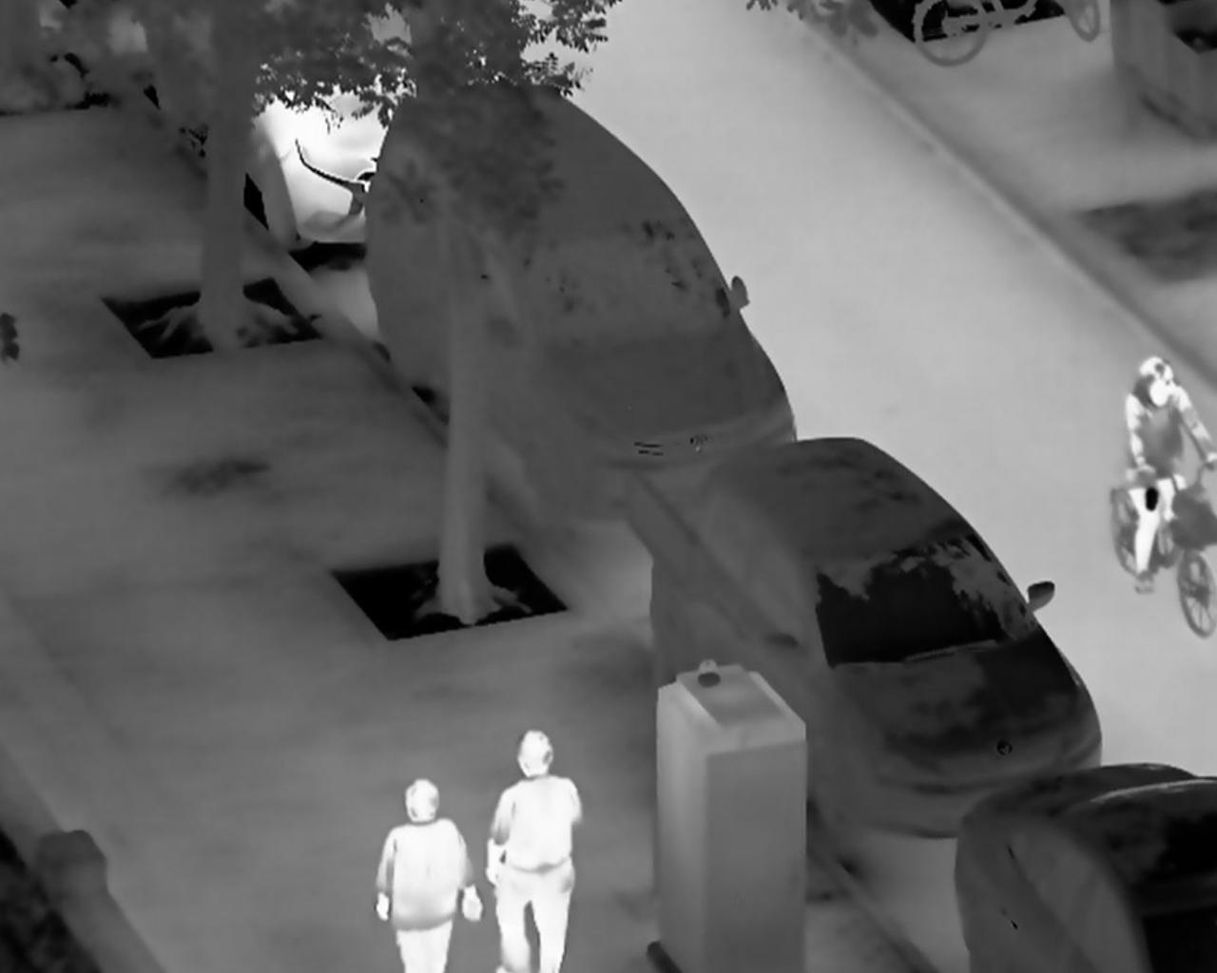person: (489, 728, 585, 973), (1127, 357, 1217, 597), (375, 777, 483, 973)
